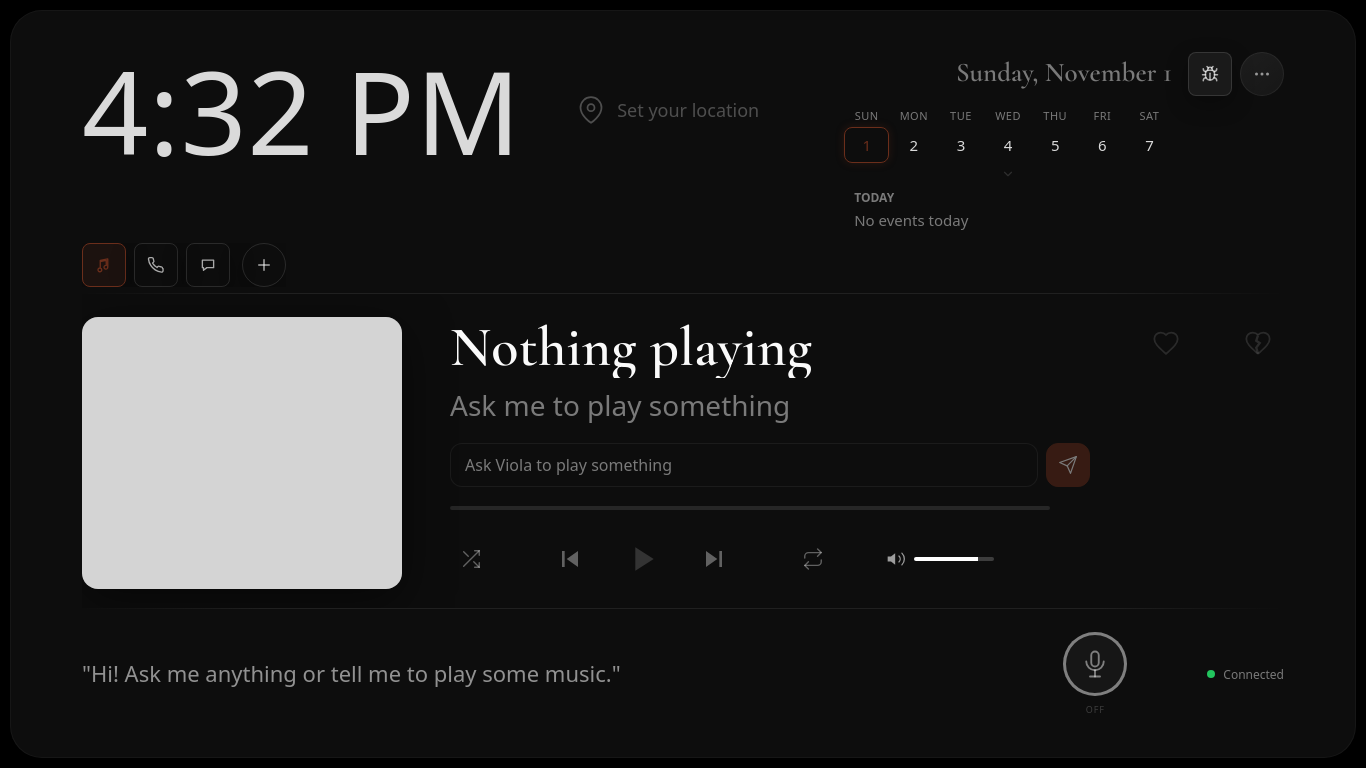
transcript render chain: local socket -> PhoneCallPanel (Refs #1529) › renders a relayed transcript frame that arrives on the local socket
Step 1. Click the button with test id "stage-pill-phone" → (156, 265), box [134,243,178,287]
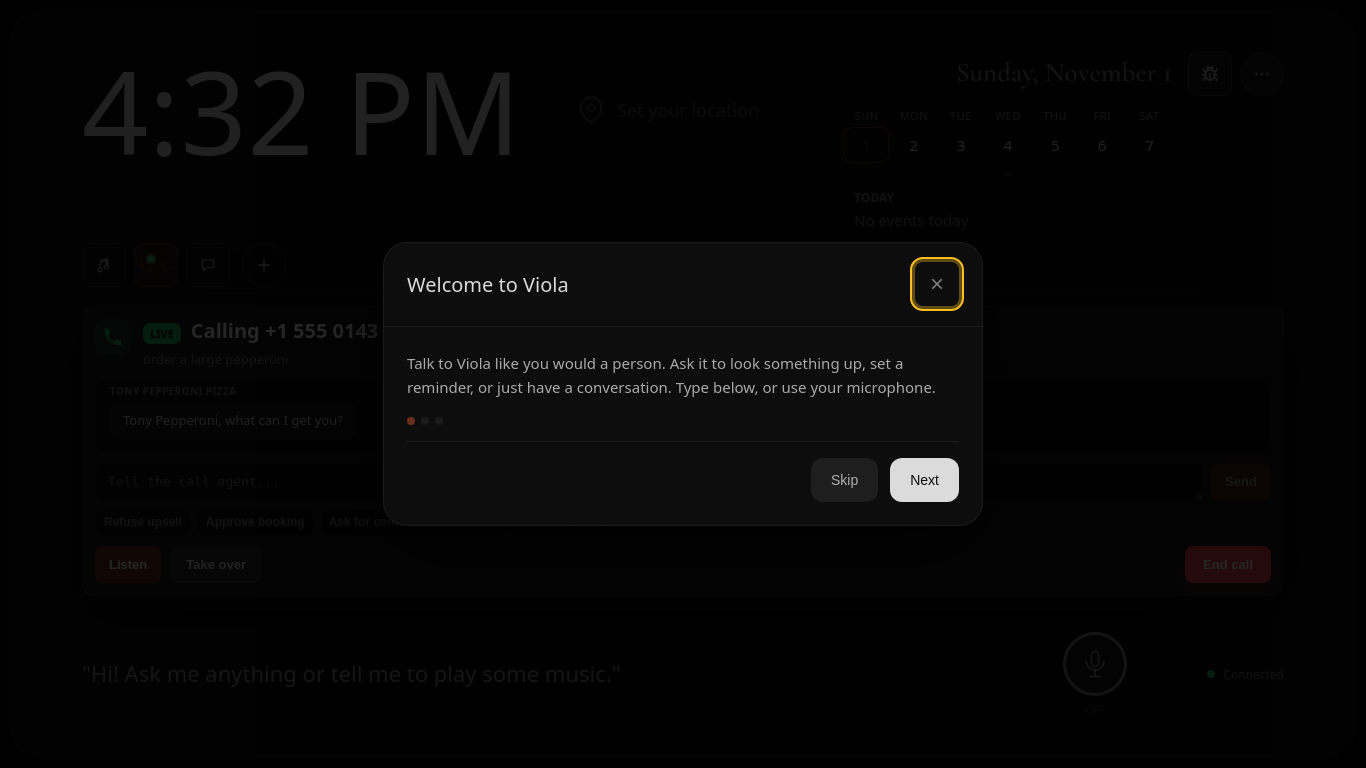
Now the element with test id "phone-call-panel" is shown, box [82,306,1284,596]
Now the text "Live transcript" is shown, box [110,384,356,440]
Now the text "Tony Pepperoni, what can I get you?" is shown, box [110,401,356,440]
